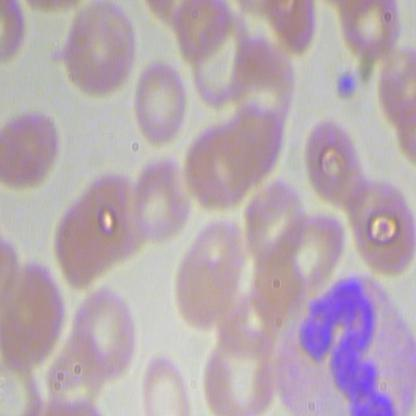Platelets: (333, 68, 358, 103)
RBC: (52, 1, 139, 106), (66, 281, 147, 379), (339, 172, 415, 276), (199, 328, 279, 415), (226, 41, 300, 134), (127, 148, 190, 249), (243, 174, 309, 263), (304, 117, 368, 205), (129, 60, 189, 150), (1, 101, 60, 192), (133, 350, 198, 415)
WBC: (276, 267, 415, 415)
